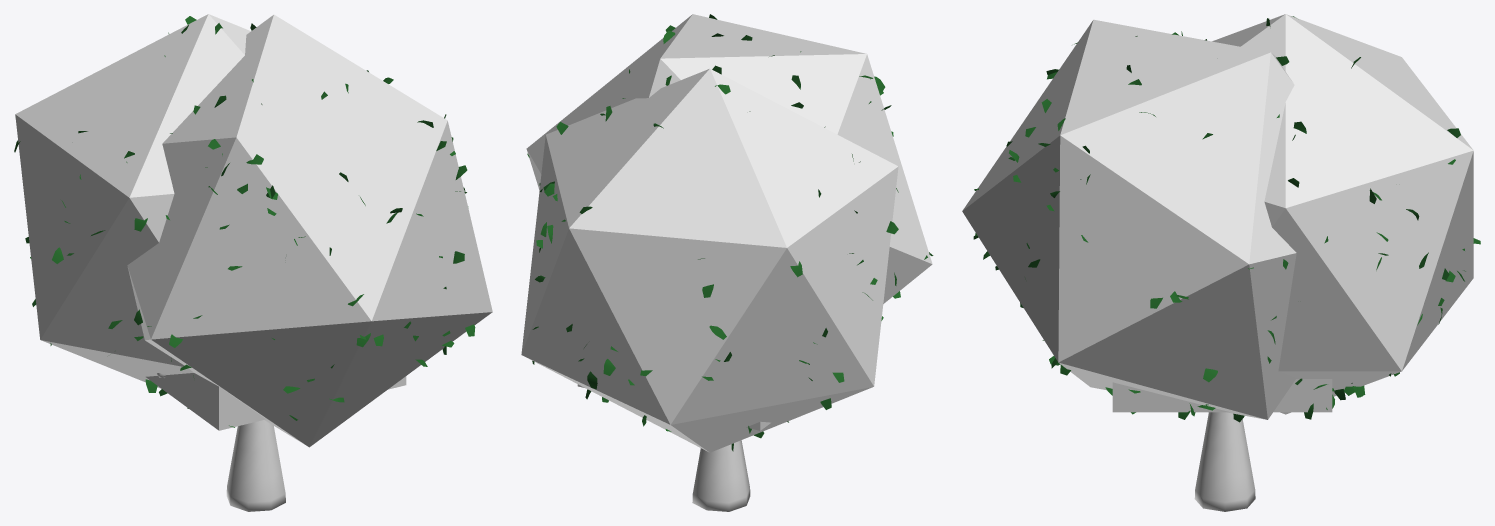
The model's file is leaftree_final.fbx.
3 views of the same model, side by side, from view 1: azimuth 30°, elevation 25°; view 2: azimuth 150°, elevation 25°; view 3: azimuth 270°, elevation 25° (orthographic). The views are drawn at different scales.
Visible parts, largest first — view 1: Icosphere.009, Icosphere.016, Vert.001, Cube; view 2: Icosphere.016, Icosphere.009, Vert.001; view 3: Icosphere.009, Icosphere.016, Vert.001, Cube.
Part boxes in pixels (box(x1,y1,x2,y2)): Icosphere.009: box(127, 14, 492, 447); Icosphere.016: box(15, 14, 250, 388); Vert.001: box(156, 373, 285, 511); Cube: box(146, 373, 406, 430); Icosphere.016: box(521, 68, 898, 452); Icosphere.009: box(526, 14, 932, 303); Vert.001: box(692, 440, 750, 511); Icosphere.009: box(962, 19, 1296, 419); Icosphere.016: box(1212, 14, 1473, 414); Vert.001: box(1194, 412, 1255, 511); Cube: box(1112, 379, 1332, 412).
Size of the model in its own units: 694 by 832 by 819.
